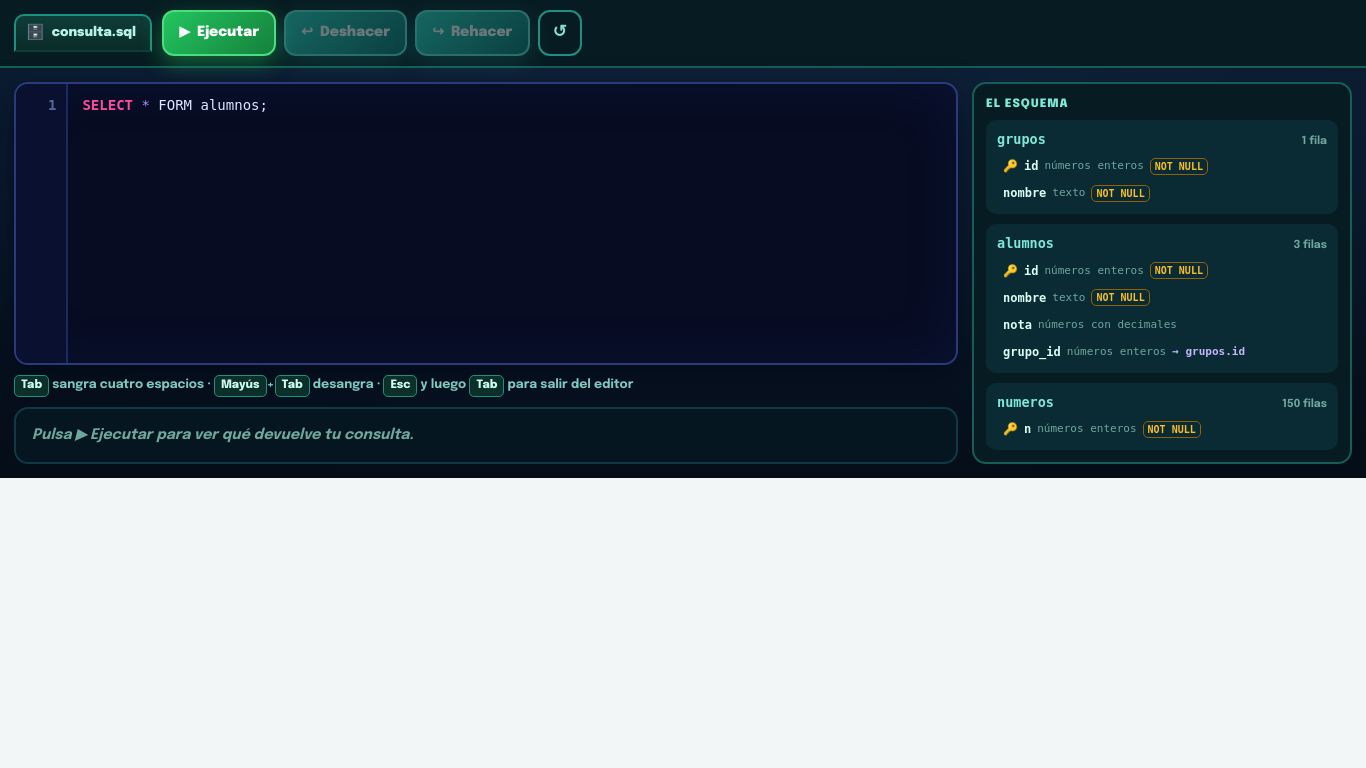
Test: VentanaDatos › una consulta con error de sintaxis se enseña con línea, el dedo, la pista y la familia — y desaparece en cuanto se edita
The image size is (1366, 768).
Click the button with test id "dat-ejecutar".
click(219, 33)  # box [162,10,276,56]
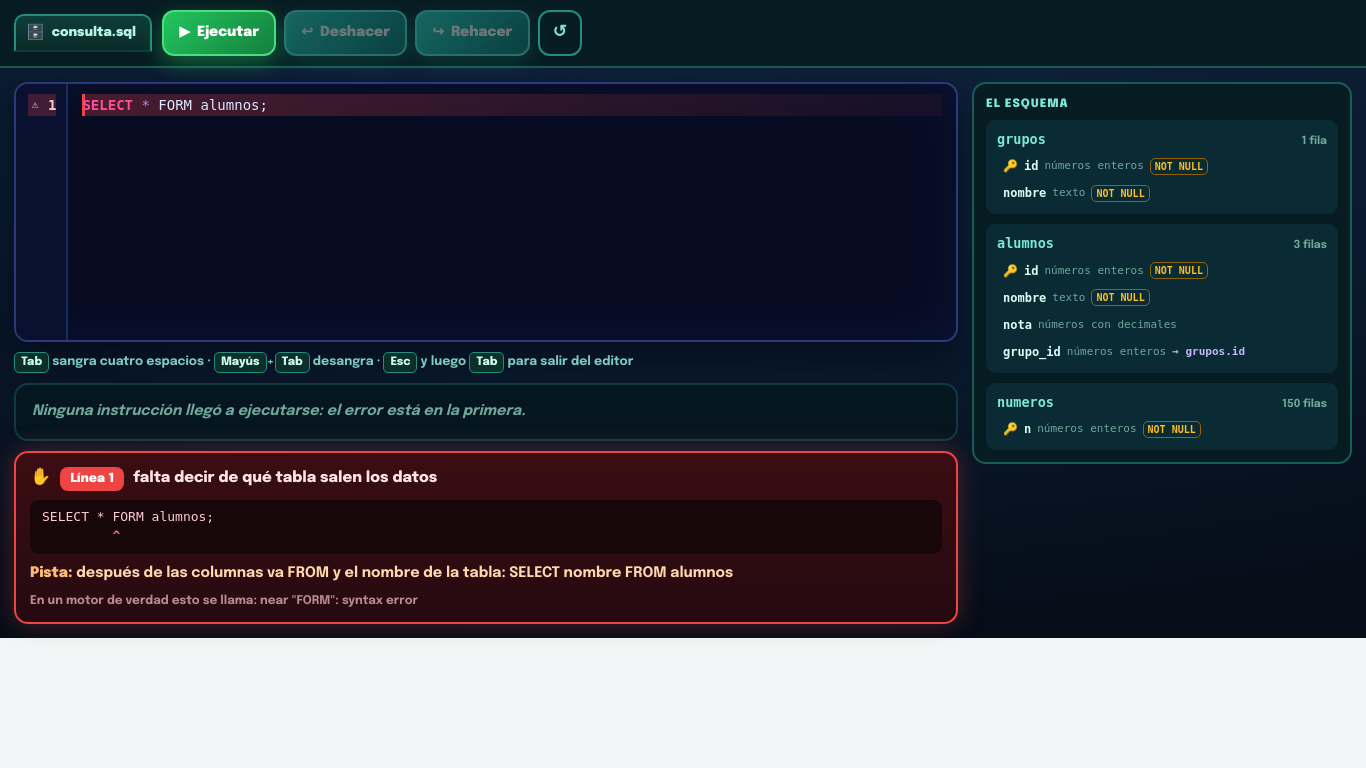
Check: the message with test id "dat-error" shows "Línea 1", box [14,450,958,624]
Check: the text "^" is shown, box [42,528,120,543]
Check: the message with test id "dat-error" shows "Pista", box [30,566,73,580]
Click the button with test id "dat-error-linea".
click(92, 479)  # box [60,466,124,491]
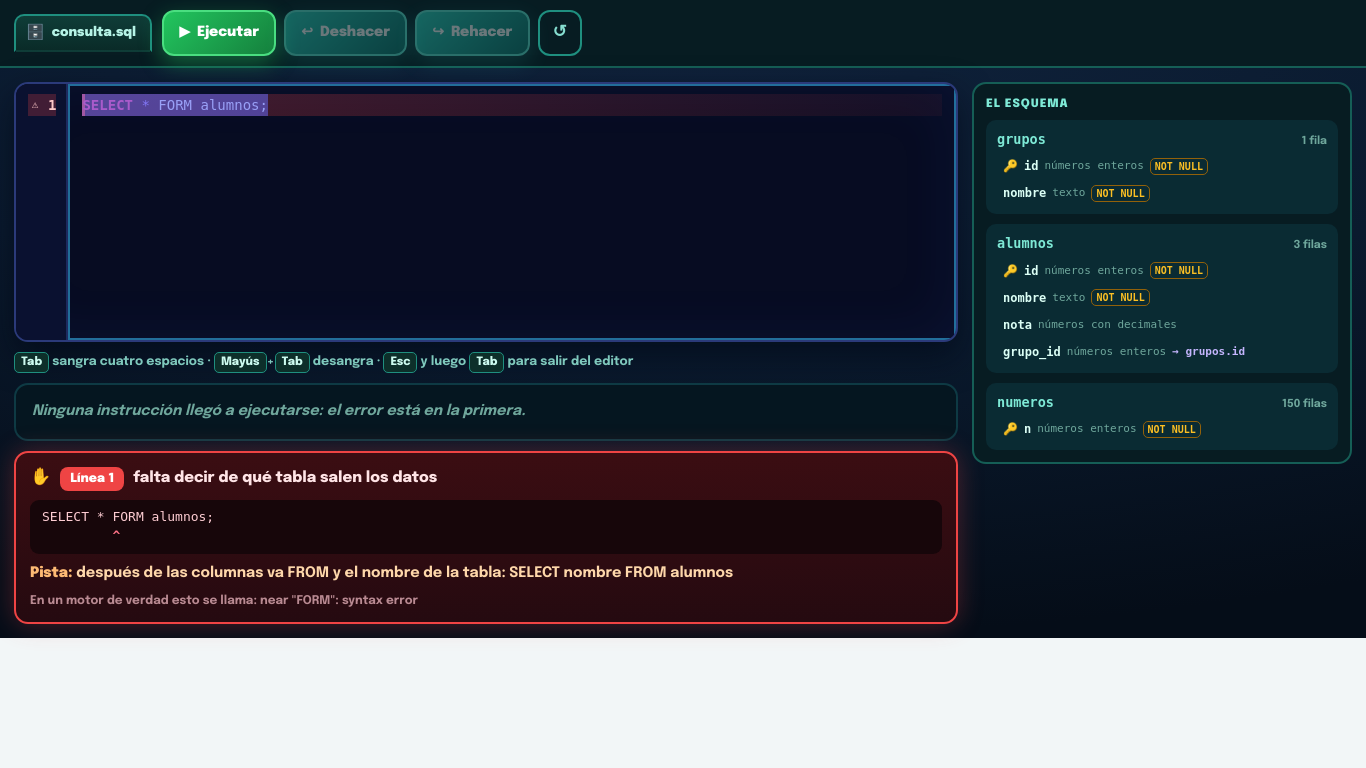
Replace the text in the text box with test id "cod-area" with "SELECT * FROM alumnos;" at (512, 212), box [68,84,956,340]
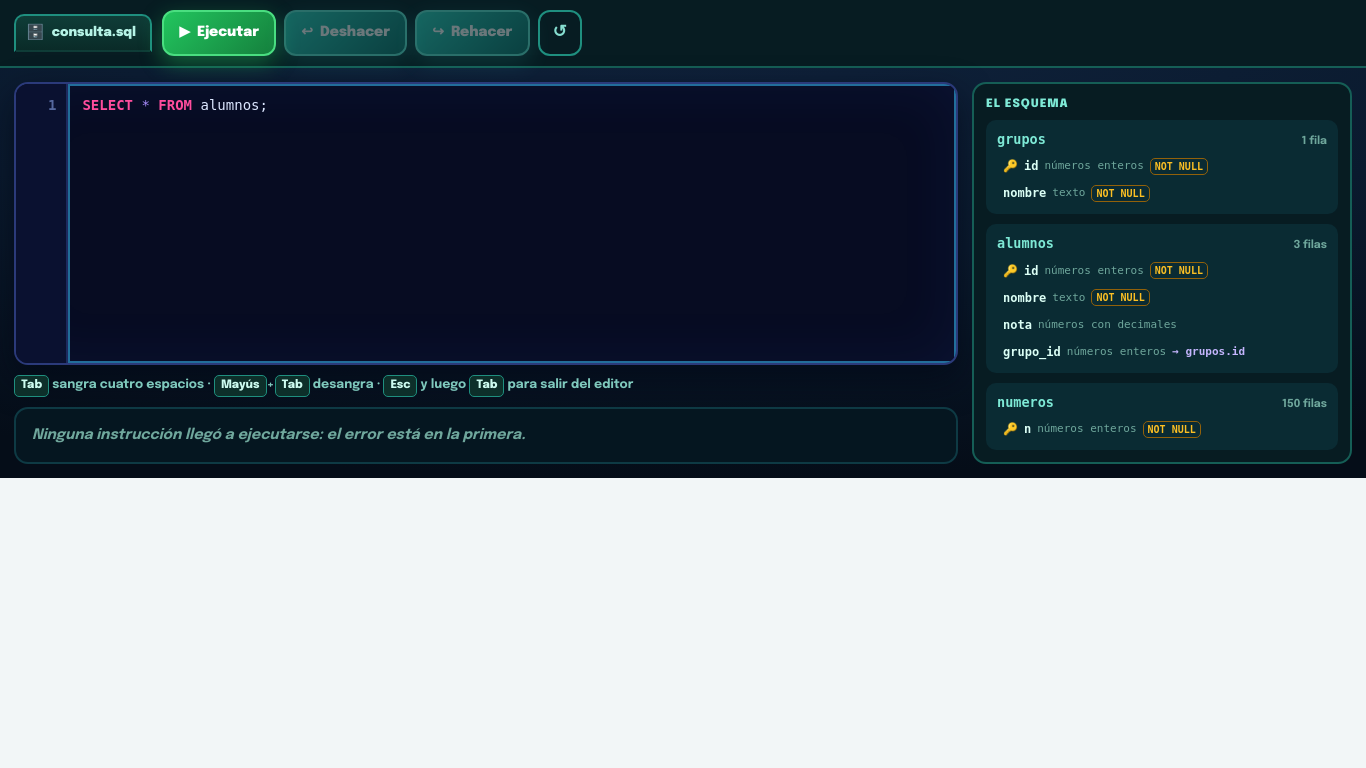
Check: the message with test id "dat-error" is gone
